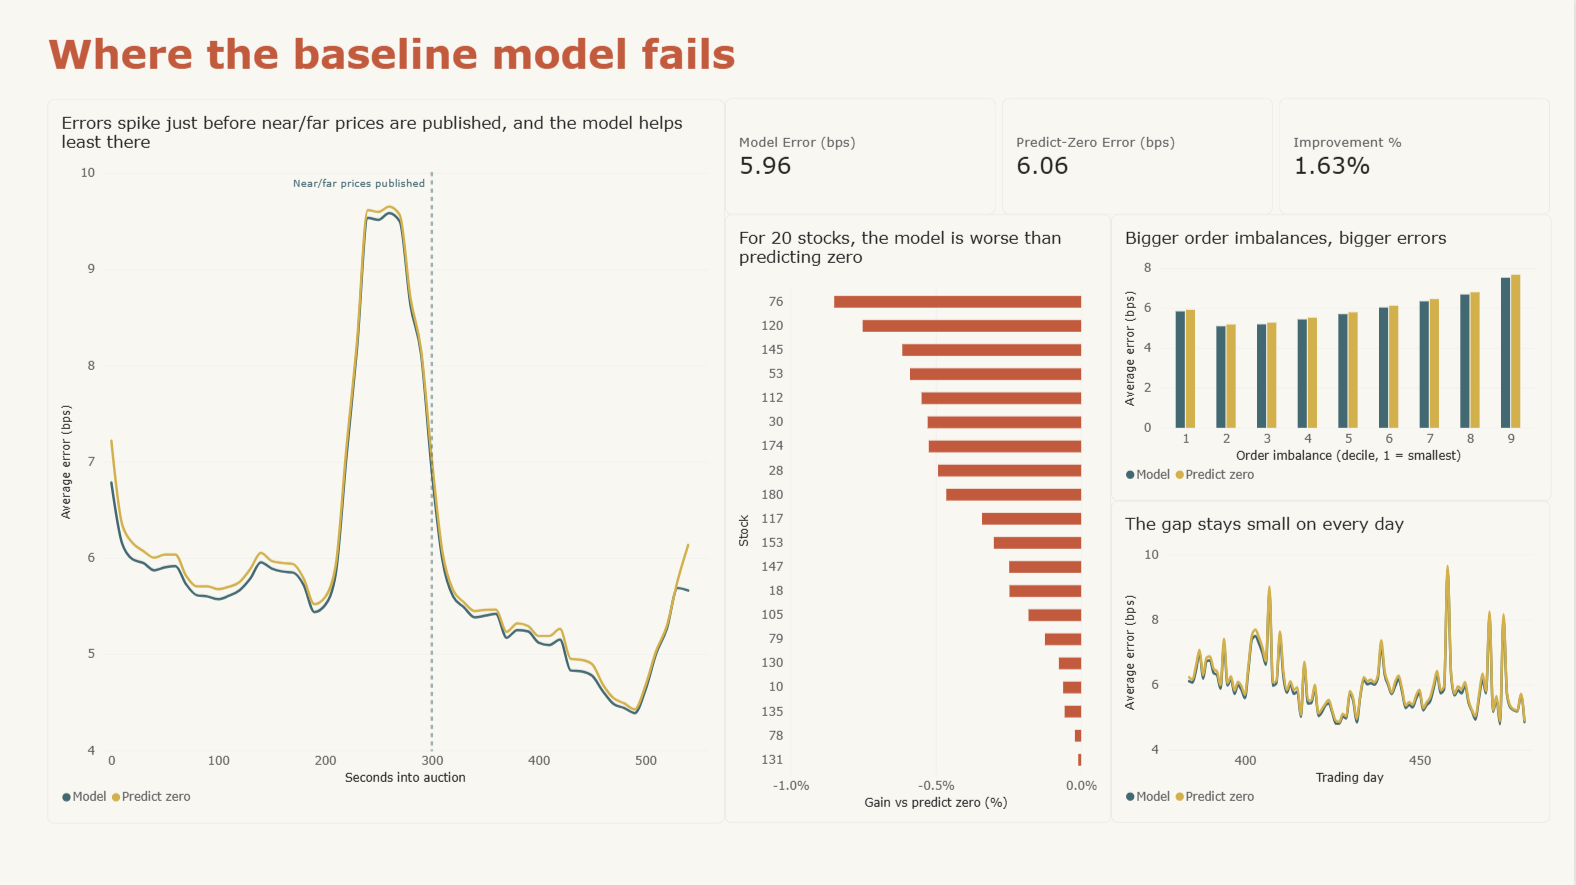

The page's visual inventory and layout, read from the dashboard file:
{"tool":"powerbi","page":{"name":"Where model fails","canvas":[1920,1080],"ordinal":1},"visuals":[{"type":"cardVisual","fields":{"Data":["error_by_date.Model Error (bps)","error_by_date.Predict-Zero Error (bps)","error_by_date.Improvement %"]},"box":[890.6,122.6,1000,141.5],"z":0},{"type":"lineChart","title":"Errors spike just before near/far prices are published, and the model helps least there","fields":{"Category":["error_by_second.seconds_in_bucket"],"Y":["Avg(error_by_second.mae_model)","Avg(error_by_second.mae_naive)"]},"box":[70,124,820,906],"z":1000},{"type":"clusteredBarChart","title":"For 20 stocks, the model is worse than predicting zero","fields":{"Category":["error_by_stock.stock_id"],"Y":["Avg(error_by_stock.Gain vs Zero %)"]},"box":[890,264,468,766],"z":2000},{"type":"clusteredColumnChart","title":"Bigger order imbalances, bigger errors","fields":{"Category":["error_by_imbalance.imbalance_decile"],"Y":["Sum(error_by_imbalance.mae_model)","Sum(error_by_imbalance.mae_naive)"]},"box":[1358.5,264.2,534,347.2],"z":3000},{"type":"lineChart","title":"The gap stays small on every day","fields":{"Category":["error_by_date.date_id"],"Y":["Avg(error_by_date.mae_model)","Avg(error_by_date.mae_naive)"]},"box":[1358,612,532,418],"z":4000},{"type":"textbox","box":[70,39.1,1412,84.4],"z":5000},{"type":"pageNavigator","box":[0,1030,1000,50],"z":5001}]}

Visuals, with their boxes in screenshot pixels (x1, y1, x2, y2), scaled from the page's 1920x1080 canvas onto the 1576x885 screenshot:
cardVisual - error_by_date.Model Error (bps) x error_by_date.Predict-Zero Error (bps): <bbox>731, 100, 1552, 216</bbox>
"Errors spike just before near/far prices are published, and the model helps least there" lineChart: <bbox>57, 102, 731, 844</bbox>
"For 20 stocks, the model is worse than predicting zero" clusteredBarChart: <bbox>731, 216, 1115, 844</bbox>
"Bigger order imbalances, bigger errors" clusteredColumnChart: <bbox>1115, 216, 1553, 501</bbox>
"The gap stays small on every day" lineChart: <bbox>1115, 502, 1551, 844</bbox>
textbox: <bbox>57, 32, 1216, 101</bbox>
pageNavigator: <bbox>0, 844, 821, 884</bbox>
